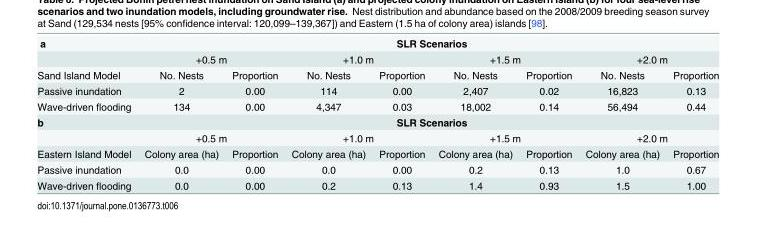table: (36, 36, 718, 190)
table column: (36, 36, 137, 190), (283, 36, 371, 190), (577, 36, 665, 190), (137, 36, 224, 190), (431, 36, 518, 190), (371, 36, 431, 190), (224, 36, 283, 190), (518, 36, 577, 190), (665, 36, 718, 190)
table row: (36, 50, 718, 66), (36, 66, 718, 82), (36, 82, 718, 98), (36, 113, 718, 129), (36, 129, 718, 145), (36, 145, 718, 161), (36, 161, 718, 177), (36, 98, 718, 113), (36, 36, 718, 50), (36, 177, 718, 190)
table spanning cell: (137, 113, 718, 129), (137, 36, 718, 50), (36, 113, 137, 145), (36, 36, 137, 66), (283, 50, 431, 66), (283, 129, 431, 145), (137, 50, 283, 66), (431, 50, 577, 66), (137, 129, 283, 145), (431, 129, 577, 145), (577, 50, 718, 66), (577, 129, 718, 145)
